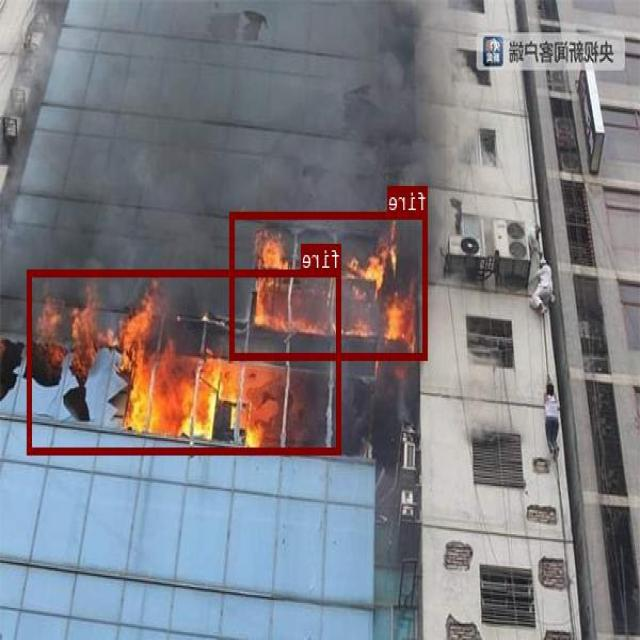fire: (28, 268, 342, 452), (231, 212, 428, 359)
